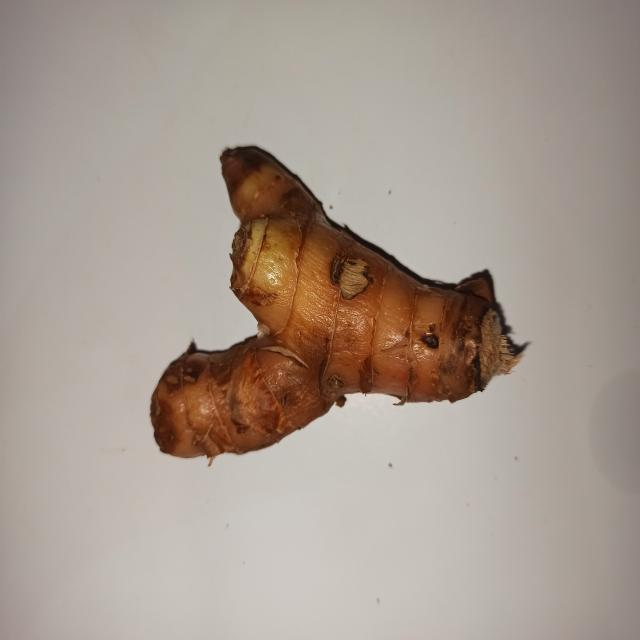ginger: (162, 167, 487, 420)
